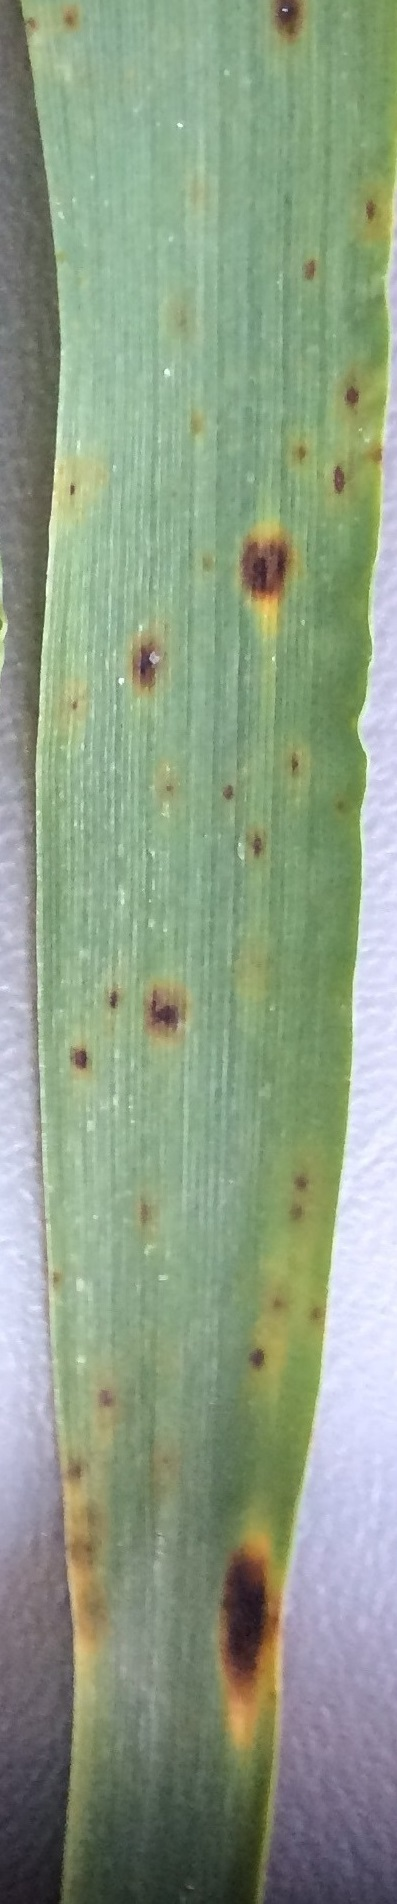Bercak Coklat: (202, 1513, 279, 1721), (236, 520, 294, 616), (140, 977, 193, 1039), (121, 640, 168, 695), (263, 1, 314, 45), (58, 1043, 104, 1086), (321, 460, 358, 506), (329, 372, 368, 414)
